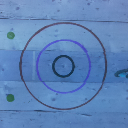Axe Tip: (115, 69, 128, 72)
